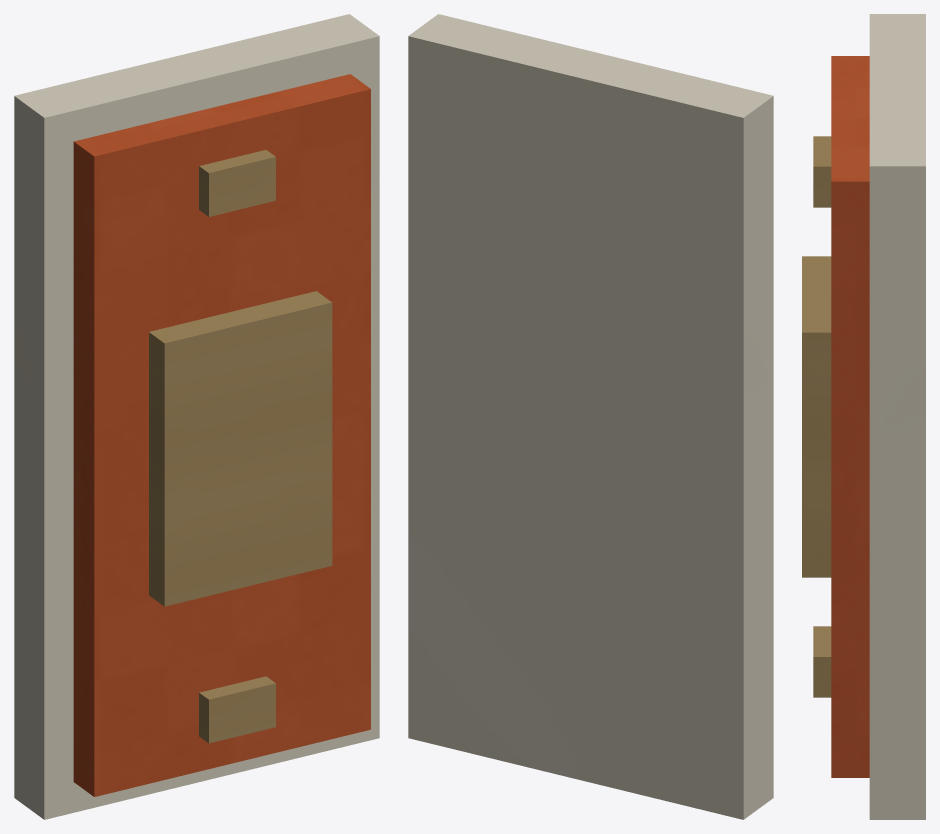
Rendered from retail_door_control_r001.glb.
3 renders of one model, left to right at view 1: azimuth 30°, elevation 25°; view 2: azimuth 150°, elevation 25°; view 3: azimuth 270°, elevation 25°, orthographic. The views are drawn at different scales.
Parts seen in each view (by area): view 1: Control_OrangeReveal, Control_SeatedBack, Control_BrassButton, Control_Fixing_-0.12, Control_Fixing_0.12; view 2: Control_SeatedBack; view 3: Control_SeatedBack, Control_OrangeReveal, Control_BrassButton, Control_Fixing_-0.12, Control_Fixing_0.12.
Boxes of the visible parts, bbox=[...] form: Control_OrangeReveal: bbox=[73, 74, 370, 796]; Control_SeatedBack: bbox=[14, 14, 379, 819]; Control_BrassButton: bbox=[149, 291, 332, 606]; Control_Fixing_-0.12: bbox=[199, 676, 275, 743]; Control_Fixing_0.12: bbox=[199, 150, 275, 216]; Control_SeatedBack: bbox=[408, 14, 773, 819]; Control_SeatedBack: bbox=[869, 14, 925, 819]; Control_OrangeReveal: bbox=[831, 56, 869, 777]; Control_BrassButton: bbox=[802, 256, 831, 577]; Control_Fixing_-0.12: bbox=[813, 626, 831, 697]; Control_Fixing_0.12: bbox=[813, 136, 831, 207].
Size of the model in its own units: 0.16 by 0.32 by 0.055.
3 materials, 3 textured.
